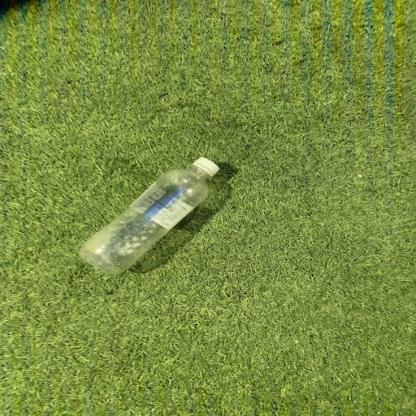trash: (76, 154, 222, 277)
